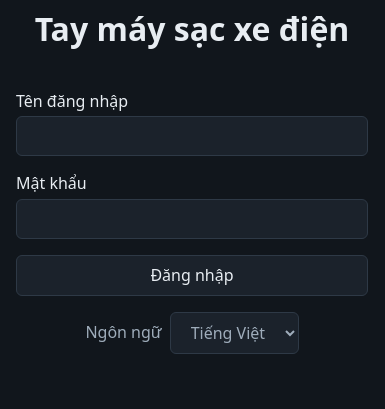
Test: session › tells why sign-in was refused, from the problem code
Type "admin" into the field labelled "Tên đăng nhập" at (192, 136), box [16,116,368,156]
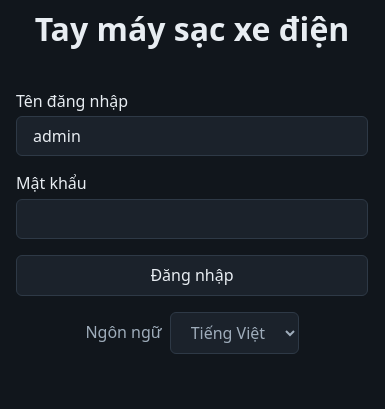
Type "wrong" into the password field labelled "Mật khẩu" at (192, 219), box [16,199,368,239]
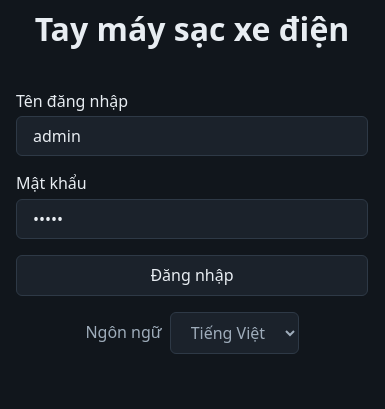
Click the button "Đăng nhập" at (192, 275), box [16,255,368,296]
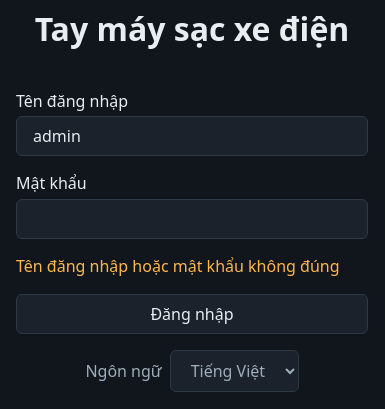
Check: the message reads "Tên đăng nhập hoặc mật khẩu không đúng", box [16,255,340,277]
